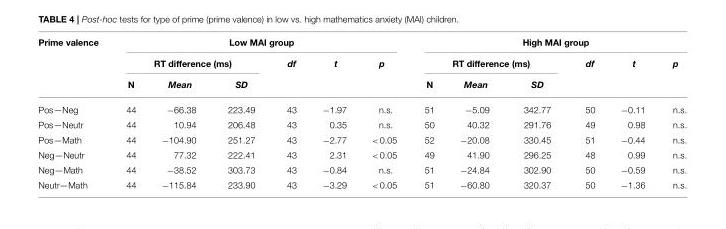table: (37, 37, 686, 189)
table column: (37, 37, 111, 189), (148, 37, 211, 189), (505, 37, 567, 189), (211, 37, 270, 189), (446, 37, 505, 189), (358, 37, 409, 189), (607, 37, 658, 189), (308, 37, 358, 189), (567, 37, 607, 189), (270, 37, 308, 189), (111, 37, 148, 189), (409, 37, 446, 189), (658, 37, 686, 189)
table column header: (37, 37, 686, 97)
table row: (37, 73, 686, 97), (37, 52, 686, 73), (37, 97, 686, 117), (37, 37, 686, 52), (37, 117, 686, 132), (37, 132, 686, 147), (37, 147, 686, 162), (37, 162, 686, 177), (37, 177, 686, 189)
table spanning cell: (111, 37, 409, 52), (37, 37, 111, 97), (409, 37, 686, 52), (111, 52, 270, 73), (409, 52, 567, 73), (358, 52, 409, 97), (607, 52, 658, 97), (308, 52, 358, 97), (567, 52, 607, 97), (270, 52, 308, 97), (658, 52, 686, 97)
